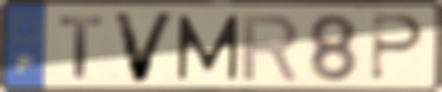8: (305, 11, 363, 84)
M: (175, 12, 242, 83)
P: (367, 12, 427, 84)
R: (240, 12, 302, 83)
T: (57, 14, 105, 81)
V: (109, 10, 180, 85)
